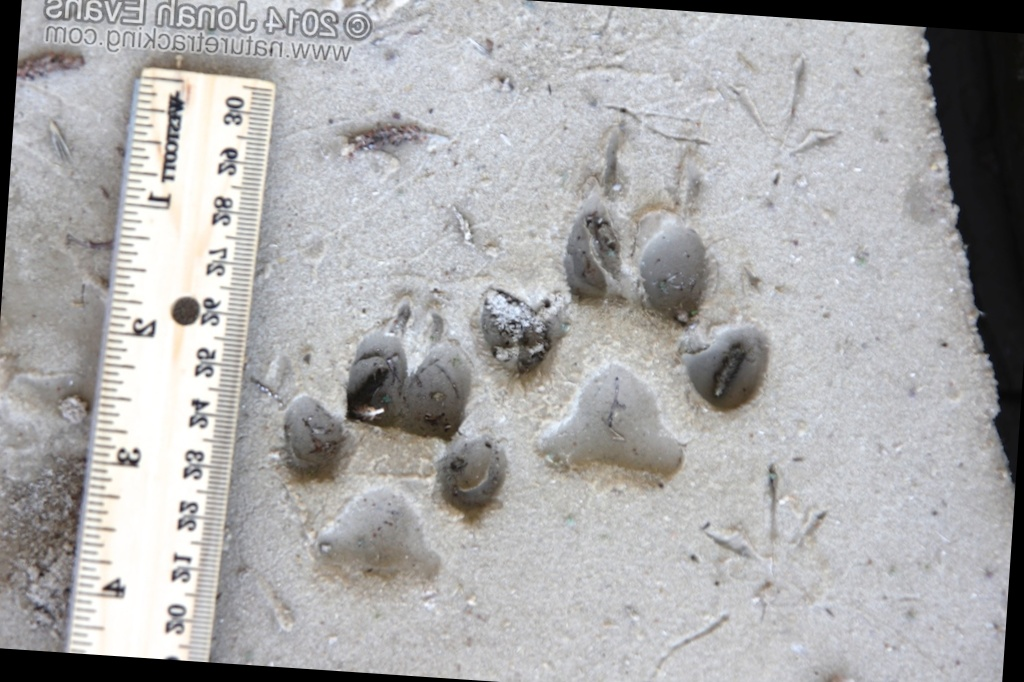coyote: (467, 122, 782, 486), (269, 296, 517, 600)
